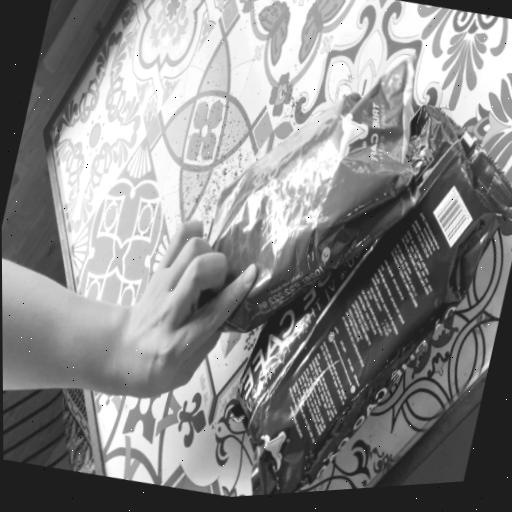cafe_hat: (233, 105, 512, 495)
cafe_xay: (209, 56, 420, 331)
